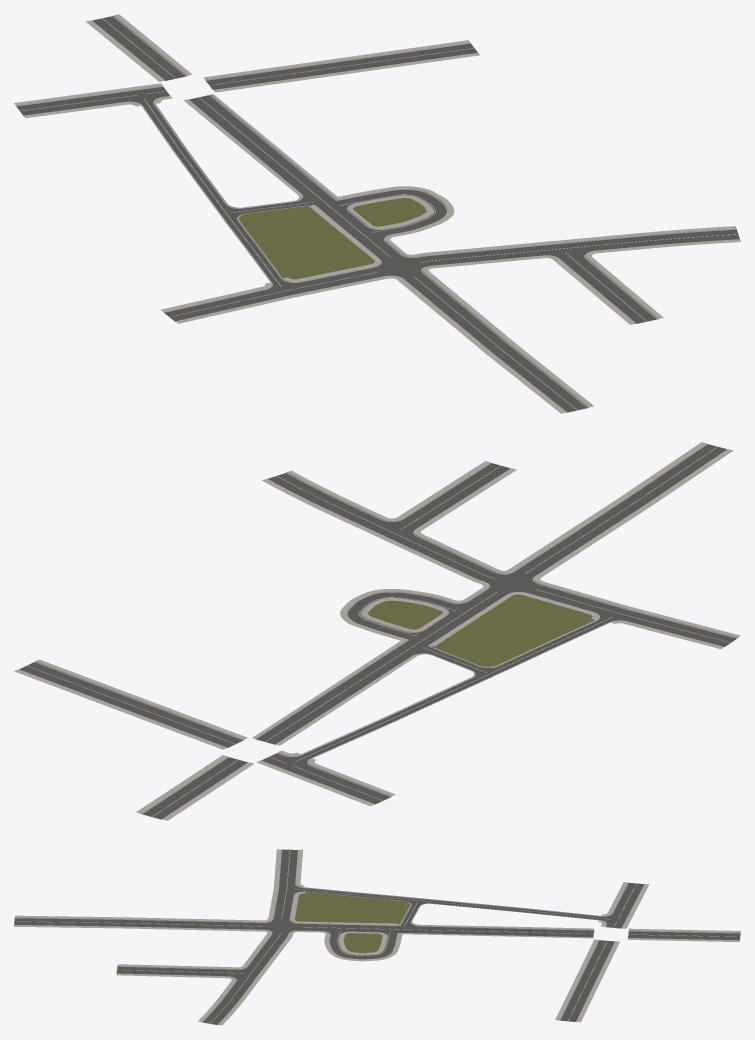
File: shiojiri.fbx
The picture shows the model from 3 angles, top to bottom: view 1: azimuth 30°, elevation 25°; view 2: azimuth 150°, elevation 25°; view 3: azimuth 270°, elevation 25°; orthographic projection. The views are drawn at different scales.
Parts seen in each view (by area): view 1: Roads_Road_Layer0Node, Roads_Sidewalk_Layer0Node, Terrain_Ground_Layer0Node, Roads_Gutter_Layer0Node, Roads_Curb_Layer0Node, Roads_Marking_Layer0Node; view 2: Roads_Road_Layer0Node, Roads_Sidewalk_Layer0Node, Terrain_Ground_Layer0Node, Roads_Gutter_Layer0Node, Roads_Curb_Layer0Node, Roads_Marking_Layer0Node; view 3: Roads_Road_Layer0Node, Roads_Sidewalk_Layer0Node, Terrain_Ground_Layer0Node, Roads_Gutter_Layer0Node, Roads_Curb_Layer0Node, Roads_Marking_Layer0Node.
Part boxes in pixels (x1=…): Roads_Road_Layer0Node: x1=16, y1=16, x2=739, y2=412; Roads_Sidewalk_Layer0Node: x1=14, y1=14, x2=740, y2=413; Terrain_Ground_Layer0Node: x1=239, y1=198, x2=426, y2=279; Roads_Gutter_Layer0Node: x1=16, y1=16, x2=738, y2=412; Roads_Curb_Layer0Node: x1=16, y1=15, x2=739, y2=412; Roads_Marking_Layer0Node: x1=20, y1=18, x2=735, y2=410; Roads_Road_Layer0Node: x1=19, y1=444, x2=736, y2=819; Roads_Sidewalk_Layer0Node: x1=14, y1=442, x2=740, y2=820; Terrain_Ground_Layer0Node: x1=368, y1=594, x2=594, y2=666; Roads_Gutter_Layer0Node: x1=19, y1=444, x2=737, y2=819; Roads_Curb_Layer0Node: x1=18, y1=443, x2=737, y2=819; Roads_Marking_Layer0Node: x1=27, y1=446, x2=730, y2=816; Roads_Road_Layer0Node: x1=14, y1=849, x2=740, y2=1024; Roads_Sidewalk_Layer0Node: x1=14, y1=849, x2=740, y2=1025; Terrain_Ground_Layer0Node: x1=294, y1=892, x2=410, y2=952; Roads_Gutter_Layer0Node: x1=15, y1=849, x2=740, y2=1024; Roads_Curb_Layer0Node: x1=15, y1=849, x2=740, y2=1024; Roads_Marking_Layer0Node: x1=16, y1=850, x2=736, y2=1023.
Bounding box in the file's own units: 210 × 365 × 0.1651.
